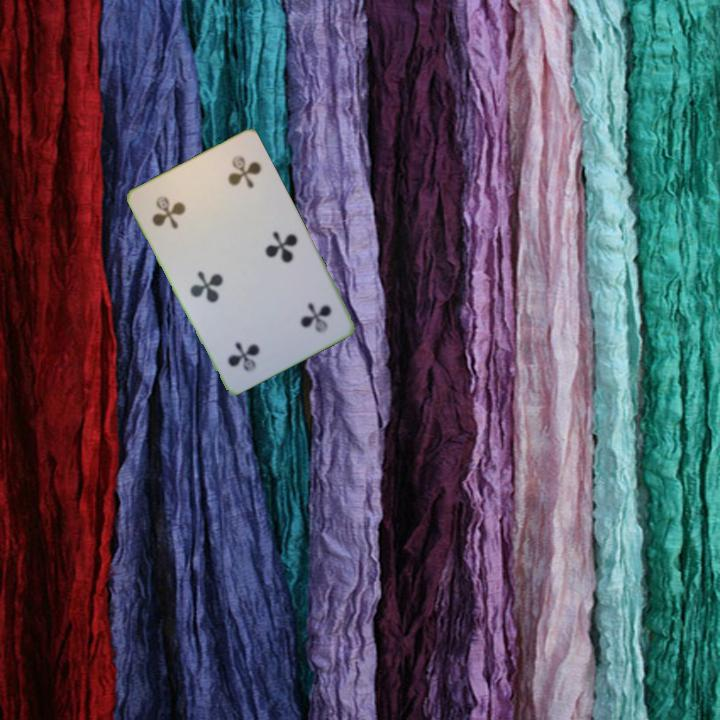c_6.png: (261, 276, 346, 356), (136, 168, 220, 248)
